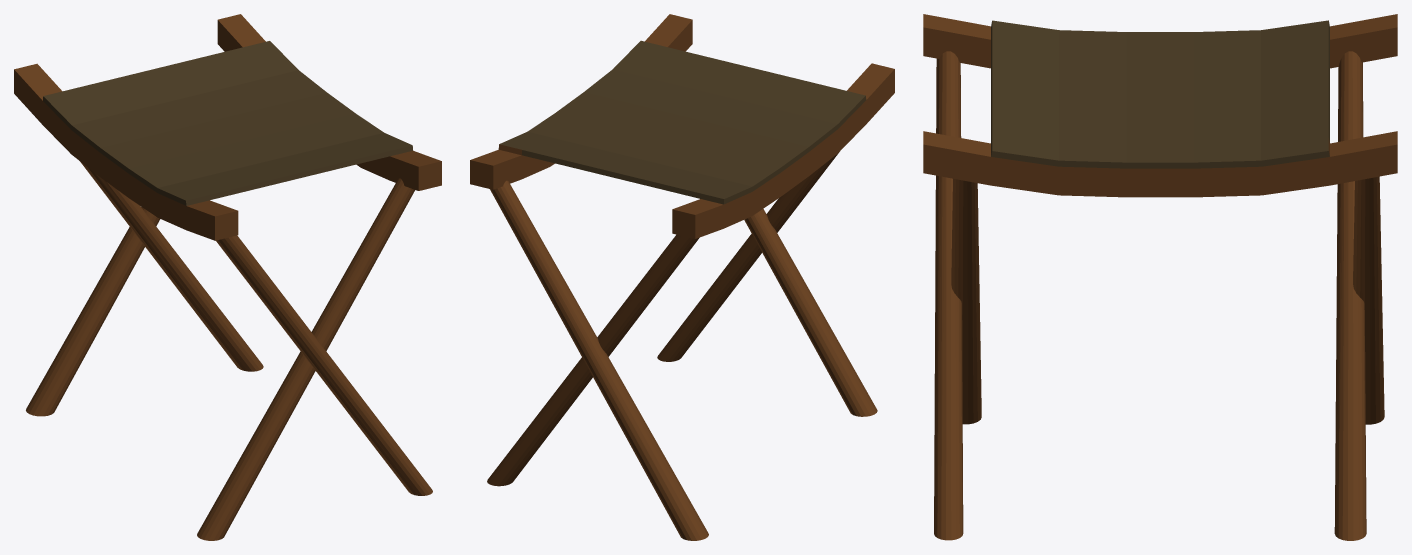
Rendered from Stoffstuhl Ver 2.fbx.
3 views of the same model, side by side, from view 1: azimuth 30°, elevation 25°; view 2: azimuth 150°, elevation 25°; view 3: azimuth 270°, elevation 25° (orthographic). The views are drawn at different scales.
Visible parts, largest first — view 1: Stoffstuhl Ver2; view 2: Stoffstuhl Ver2; view 3: Stoffstuhl Ver2.
Boxes of the visible parts, bbox=[...] form: Stoffstuhl Ver2: bbox=[14, 14, 441, 540]; Stoffstuhl Ver2: bbox=[470, 14, 894, 540]; Stoffstuhl Ver2: bbox=[923, 14, 1397, 540].
Bounding box in the file's own units: 46.94 × 66.12 × 71.78.
